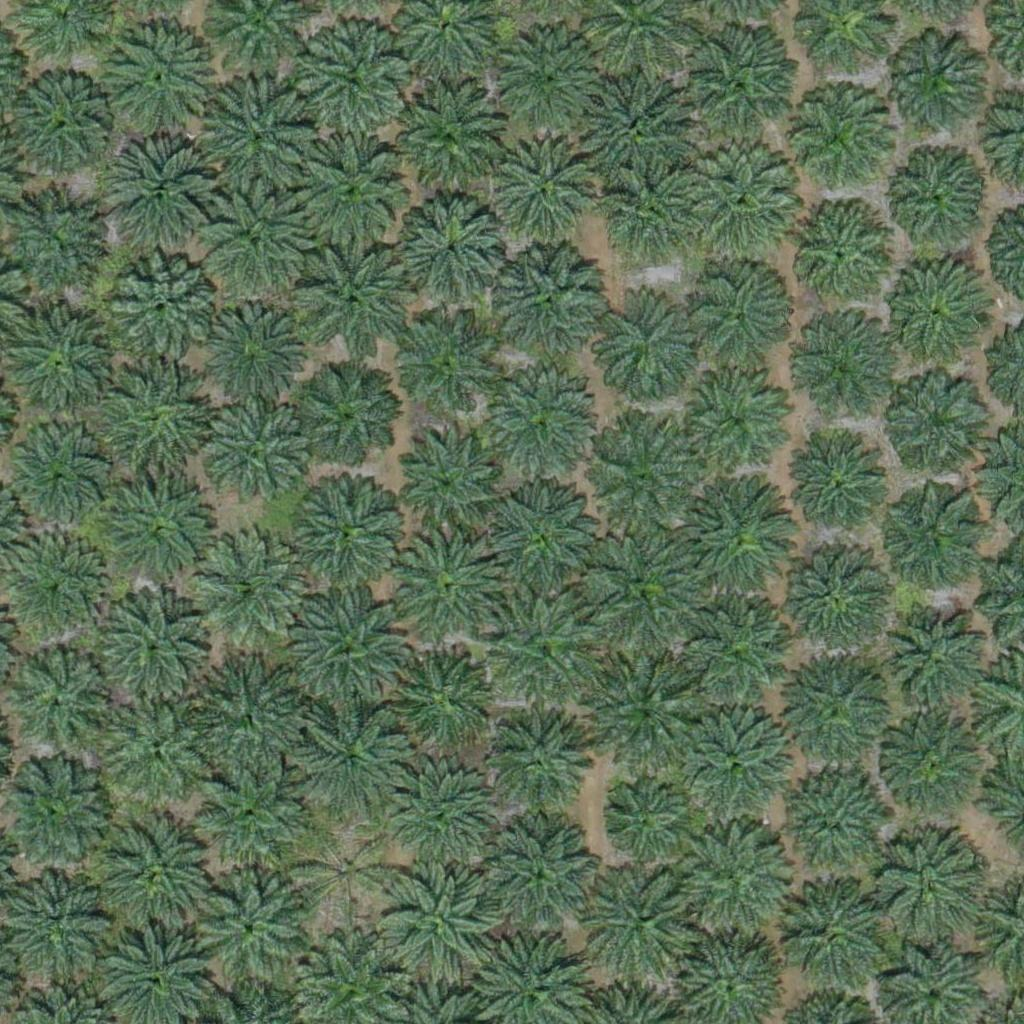Kelapa_Sawit: (674, 144, 799, 270), (91, 361, 216, 487), (101, 471, 226, 597), (670, 596, 795, 722), (584, 653, 709, 779), (86, 579, 211, 705), (684, 366, 797, 480), (588, 288, 701, 402), (677, 479, 790, 593), (585, 865, 698, 979), (389, 528, 502, 642), (484, 818, 597, 932), (578, 71, 691, 184), (487, 136, 600, 249), (200, 83, 313, 196), (99, 17, 212, 130), (199, 191, 312, 304), (293, 134, 406, 247), (585, 423, 698, 536), (398, 428, 511, 541), (291, 474, 404, 587), (297, 249, 410, 362), (193, 294, 306, 407), (876, 714, 989, 827), (871, 836, 984, 949), (778, 544, 891, 657), (779, 657, 892, 770), (102, 690, 215, 803), (197, 875, 310, 988), (193, 758, 306, 871), (187, 660, 300, 773), (487, 588, 600, 701), (100, 139, 212, 253), (682, 255, 794, 369), (494, 243, 606, 357), (193, 529, 305, 643), (293, 589, 405, 703), (388, 766, 500, 880), (787, 204, 899, 317), (784, 84, 896, 197), (682, 22, 794, 135), (394, 86, 506, 199), (299, 21, 411, 134), (397, 199, 509, 312), (781, 313, 893, 426), (389, 316, 501, 429), (485, 377, 597, 490), (489, 479, 601, 592), (202, 403, 314, 516), (108, 252, 220, 365), (3, 306, 115, 419), (777, 775, 889, 888), (774, 883, 886, 996), (678, 711, 790, 824), (677, 822, 789, 935), (586, 533, 698, 646), (7, 641, 119, 754), (105, 814, 217, 927), (295, 701, 407, 814), (381, 863, 493, 976), (296, 823, 396, 924), (498, 27, 598, 128), (884, 259, 984, 360), (890, 369, 990, 470), (299, 366, 399, 467), (6, 434, 106, 535), (879, 491, 979, 592), (890, 608, 990, 709), (12, 873, 112, 974), (885, 32, 985, 132), (886, 151, 986, 251), (9, 75, 109, 175), (792, 440, 892, 540), (391, 650, 491, 750), (490, 708, 590, 808), (604, 784, 679, 860), (607, 175, 682, 250)
